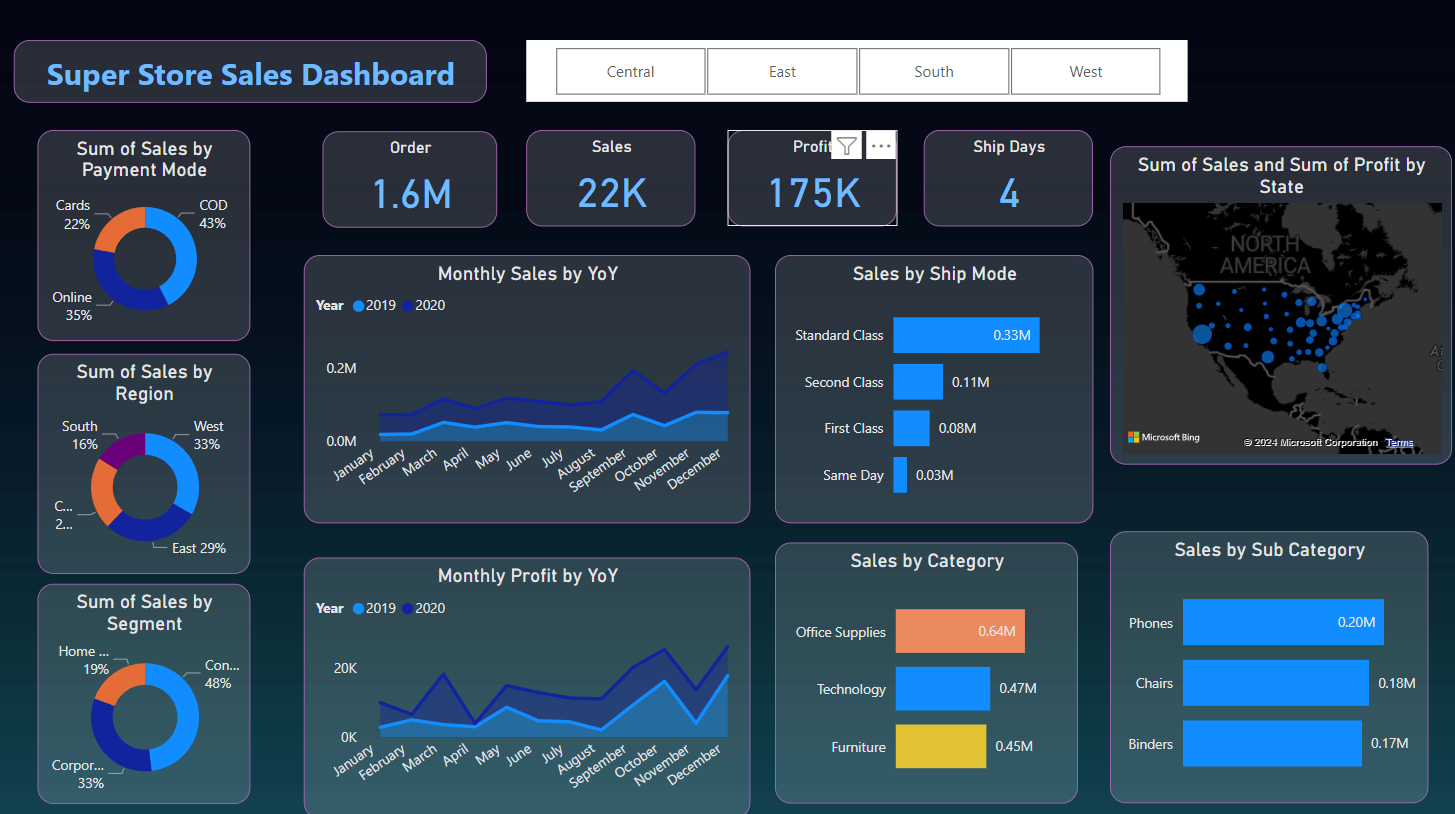

The page's visual inventory and layout, read from the dashboard file:
{"tool":"powerbi","page":{"name":"Page 1","canvas":[1280,720],"ordinal":0},"visuals":[{"type":"clusteredBarChart","title":" Sales by Category","fields":{"Category":["SuperStore_Sales_Dataset.Category"],"Y":["Sum(SuperStore_Sales_Dataset.Sales)"]},"box":[681.9,477.2,266.6,229.7],"z":0},{"type":"clusteredBarChart","title":" Sales by Sub Category","fields":{"Category":["SuperStore_Sales_Dataset.Sub-Category"],"Y":["Sum(SuperStore_Sales_Dataset.Sales)"]},"box":[975.9,467.7,279.7,239.2],"z":1000},{"type":"clusteredBarChart","title":" Sales by Ship Mode","fields":{"Category":["SuperStore_Sales_Dataset.Ship Mode"],"Y":["Sum(SuperStore_Sales_Dataset.Sales)"]},"box":[681.9,223.7,279.7,235.6],"z":2000},{"type":"stackedAreaChart","title":" Monthly Sales by YoY ","fields":{"Y":["Sum(SuperStore_Sales_Dataset.Sales)"],"Category":["SuperStore_Sales_Dataset.Order Date.Variation.Date Hierarchy.Month","SuperStore_Sales_Dataset.Order Date.Variation.Date Hierarchy.Day"],"Series":["SuperStore_Sales_Dataset.Order Date.Variation.Date Hierarchy.Year"]},"box":[266.6,223.7,392.7,235.6],"z":3000},{"type":"stackedAreaChart","title":" Monthly Profit by YoY ","fields":{"Category":["SuperStore_Sales_Dataset.Order Date.Variation.Date Hierarchy.Month","SuperStore_Sales_Dataset.Order Date.Variation.Date Hierarchy.Day"],"Series":["SuperStore_Sales_Dataset.Order Date.Variation.Date Hierarchy.Year"],"Y":["Sum(SuperStore_Sales_Dataset.Profit)"]},"box":[266.6,490.3,392.7,229.7],"z":4000},{"type":"map","fields":{"Category":["SuperStore_Sales_Dataset.State"],"Size":["Sum(SuperStore_Sales_Dataset.Sales)"]},"box":[975.6,129,300.5,279.9],"z":5000},{"type":"donutChart","fields":{"Category":["SuperStore_Sales_Dataset.Segment"],"Y":["Sum(SuperStore_Sales_Dataset.Sales)"]},"box":[33.3,512.9,186.8,194],"z":6000},{"type":"donutChart","fields":{"Category":["SuperStore_Sales_Dataset.Payment Mode"],"Y":["Sum(SuperStore_Sales_Dataset.Sales)"]},"box":[33.3,114.2,186.8,185.7],"z":7000},{"type":"slicer","fields":{"Values":["SuperStore_Sales_Dataset.Region"]},"box":[462.9,35.7,582,54.7],"z":8000},{"type":"textbox","box":[12.3,35.7,415.8,54.9],"z":9000},{"type":"card","title":"Order","fields":{"Values":["Sum(SuperStore_Sales_Dataset.Sales)"]},"box":[283.2,115.4,153.5,84.5],"z":10000},{"type":"card","title":"Sales","fields":{"Values":["Sum(SuperStore_Sales_Dataset.Quantity)"]},"box":[462.9,114.2,148.8,84.5],"z":11000},{"type":"card","title":"Profit","fields":{"Values":["Sum(SuperStore_Sales_Dataset.Profit)"]},"box":[640.3,114.2,148.8,84.5],"z":12000},{"type":"card","title":"Ship Days","fields":{"Values":["Avg(SuperStore_Sales_Dataset.AvgDelivery)"]},"box":[812.8,114.2,148.8,84.5],"z":13000},{"type":"donutChart","fields":{"Category":["SuperStore_Sales_Dataset.Region"],"Y":["Sum(SuperStore_Sales_Dataset.Sales)"]},"box":[33.3,310.6,186.8,194],"z":14000}]}

Visuals, with their boxes in screenshot pixels (x1, y1, x2, y2), scaled from the page's 1280x720 canvas onto the 1455x814 screenshot:
" Sales by Category" clusteredBarChart: [x1=775, y1=540, x2=1078, y2=799]
" Sales by Sub Category" clusteredBarChart: [x1=1109, y1=529, x2=1427, y2=799]
" Sales by Ship Mode" clusteredBarChart: [x1=775, y1=253, x2=1093, y2=519]
" Monthly Sales by YoY " stackedAreaChart: [x1=303, y1=253, x2=749, y2=519]
" Monthly Profit by YoY " stackedAreaChart: [x1=303, y1=554, x2=749, y2=813]
map - SuperStore_Sales_Dataset.State x Sum(SuperStore_Sales_Dataset.Sales): [x1=1109, y1=146, x2=1451, y2=462]
donutChart - SuperStore_Sales_Dataset.Segment x Sum(SuperStore_Sales_Dataset.Sales): [x1=38, y1=580, x2=250, y2=799]
donutChart - SuperStore_Sales_Dataset.Payment Mode x Sum(SuperStore_Sales_Dataset.Sales): [x1=38, y1=129, x2=250, y2=339]
slicer - SuperStore_Sales_Dataset.Region: [x1=526, y1=40, x2=1188, y2=102]
textbox: [x1=14, y1=40, x2=487, y2=102]
"Order" card: [x1=322, y1=130, x2=496, y2=226]
"Sales" card: [x1=526, y1=129, x2=695, y2=225]
"Profit" card: [x1=728, y1=129, x2=897, y2=225]
"Ship Days" card: [x1=924, y1=129, x2=1093, y2=225]
donutChart - SuperStore_Sales_Dataset.Region x Sum(SuperStore_Sales_Dataset.Sales): [x1=38, y1=351, x2=250, y2=570]
